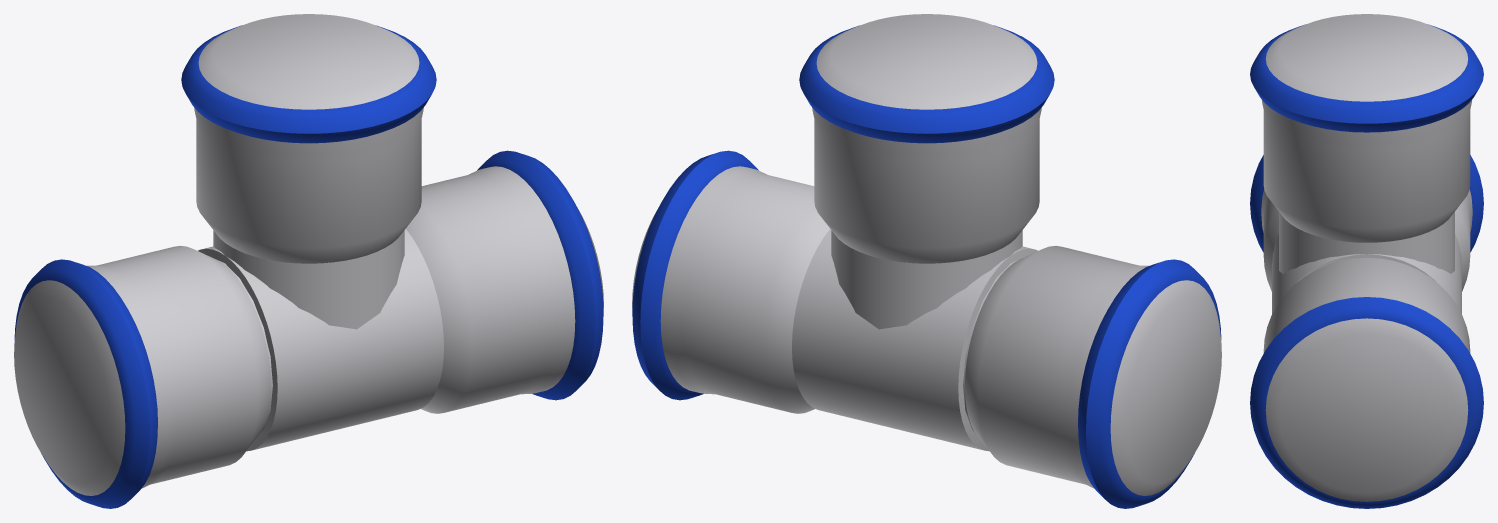
The model's file is fitting_tee_28.glb.
3 views of the same model, side by side, from view 1: azimuth 30°, elevation 25°; view 2: azimuth 150°, elevation 25°; view 3: azimuth 270°, elevation 25° (orthographic). The views are drawn at different scales.
Visible parts, largest first — view 1: раструб.001, раструб.002, раструб, узел, кольцо пресс.001, кольцо пресс.002, корпус.001, кольцо пресс; view 2: раструб.001, раструб.002, раструб, узел, кольцо пресс.001, кольцо пресс.002, корпус.001, кольцо пресс; view 3: раструб, раструб.002, кольцо пресс, кольцо пресс.002, корпус.001, узел, раструб.001, кольцо пресс.001.
Boxes of the visible parts, x1,y1,x2,y2 form: раструб.001: (14,246,270,495); раструб.002: (194,14,423,263); раструб: (406,166,603,413); узел: (198,229,443,451); кольцо пресс.001: (14,259,157,508); кольцо пресс.002: (181,25,436,143); корпус.001: (213,230,404,329); кольцо пресс: (477,150,603,400); раструб.001: (965,246,1221,495); раструб.002: (812,14,1041,263); раструб: (632,166,829,413); узел: (792,229,1037,451); кольцо пресс.001: (1078,259,1221,508); кольцо пресс.002: (799,25,1054,143); корпус.001: (831,230,1022,329); кольцо пресс: (632,150,758,400); раструб: (1263,257,1470,501); раструб.002: (1262,14,1471,242); кольцо пресс: (1250,297,1483,508); кольцо пресс.002: (1250,24,1483,132); корпус.001: (1279,212,1454,273); узел: (1272,234,1461,313); раструб.001: (1261,189,1472,291); кольцо пресс.001: (1250,155,1483,252).
Size of the model in its own units: 0.092 by 0.0696 by 0.0412.
